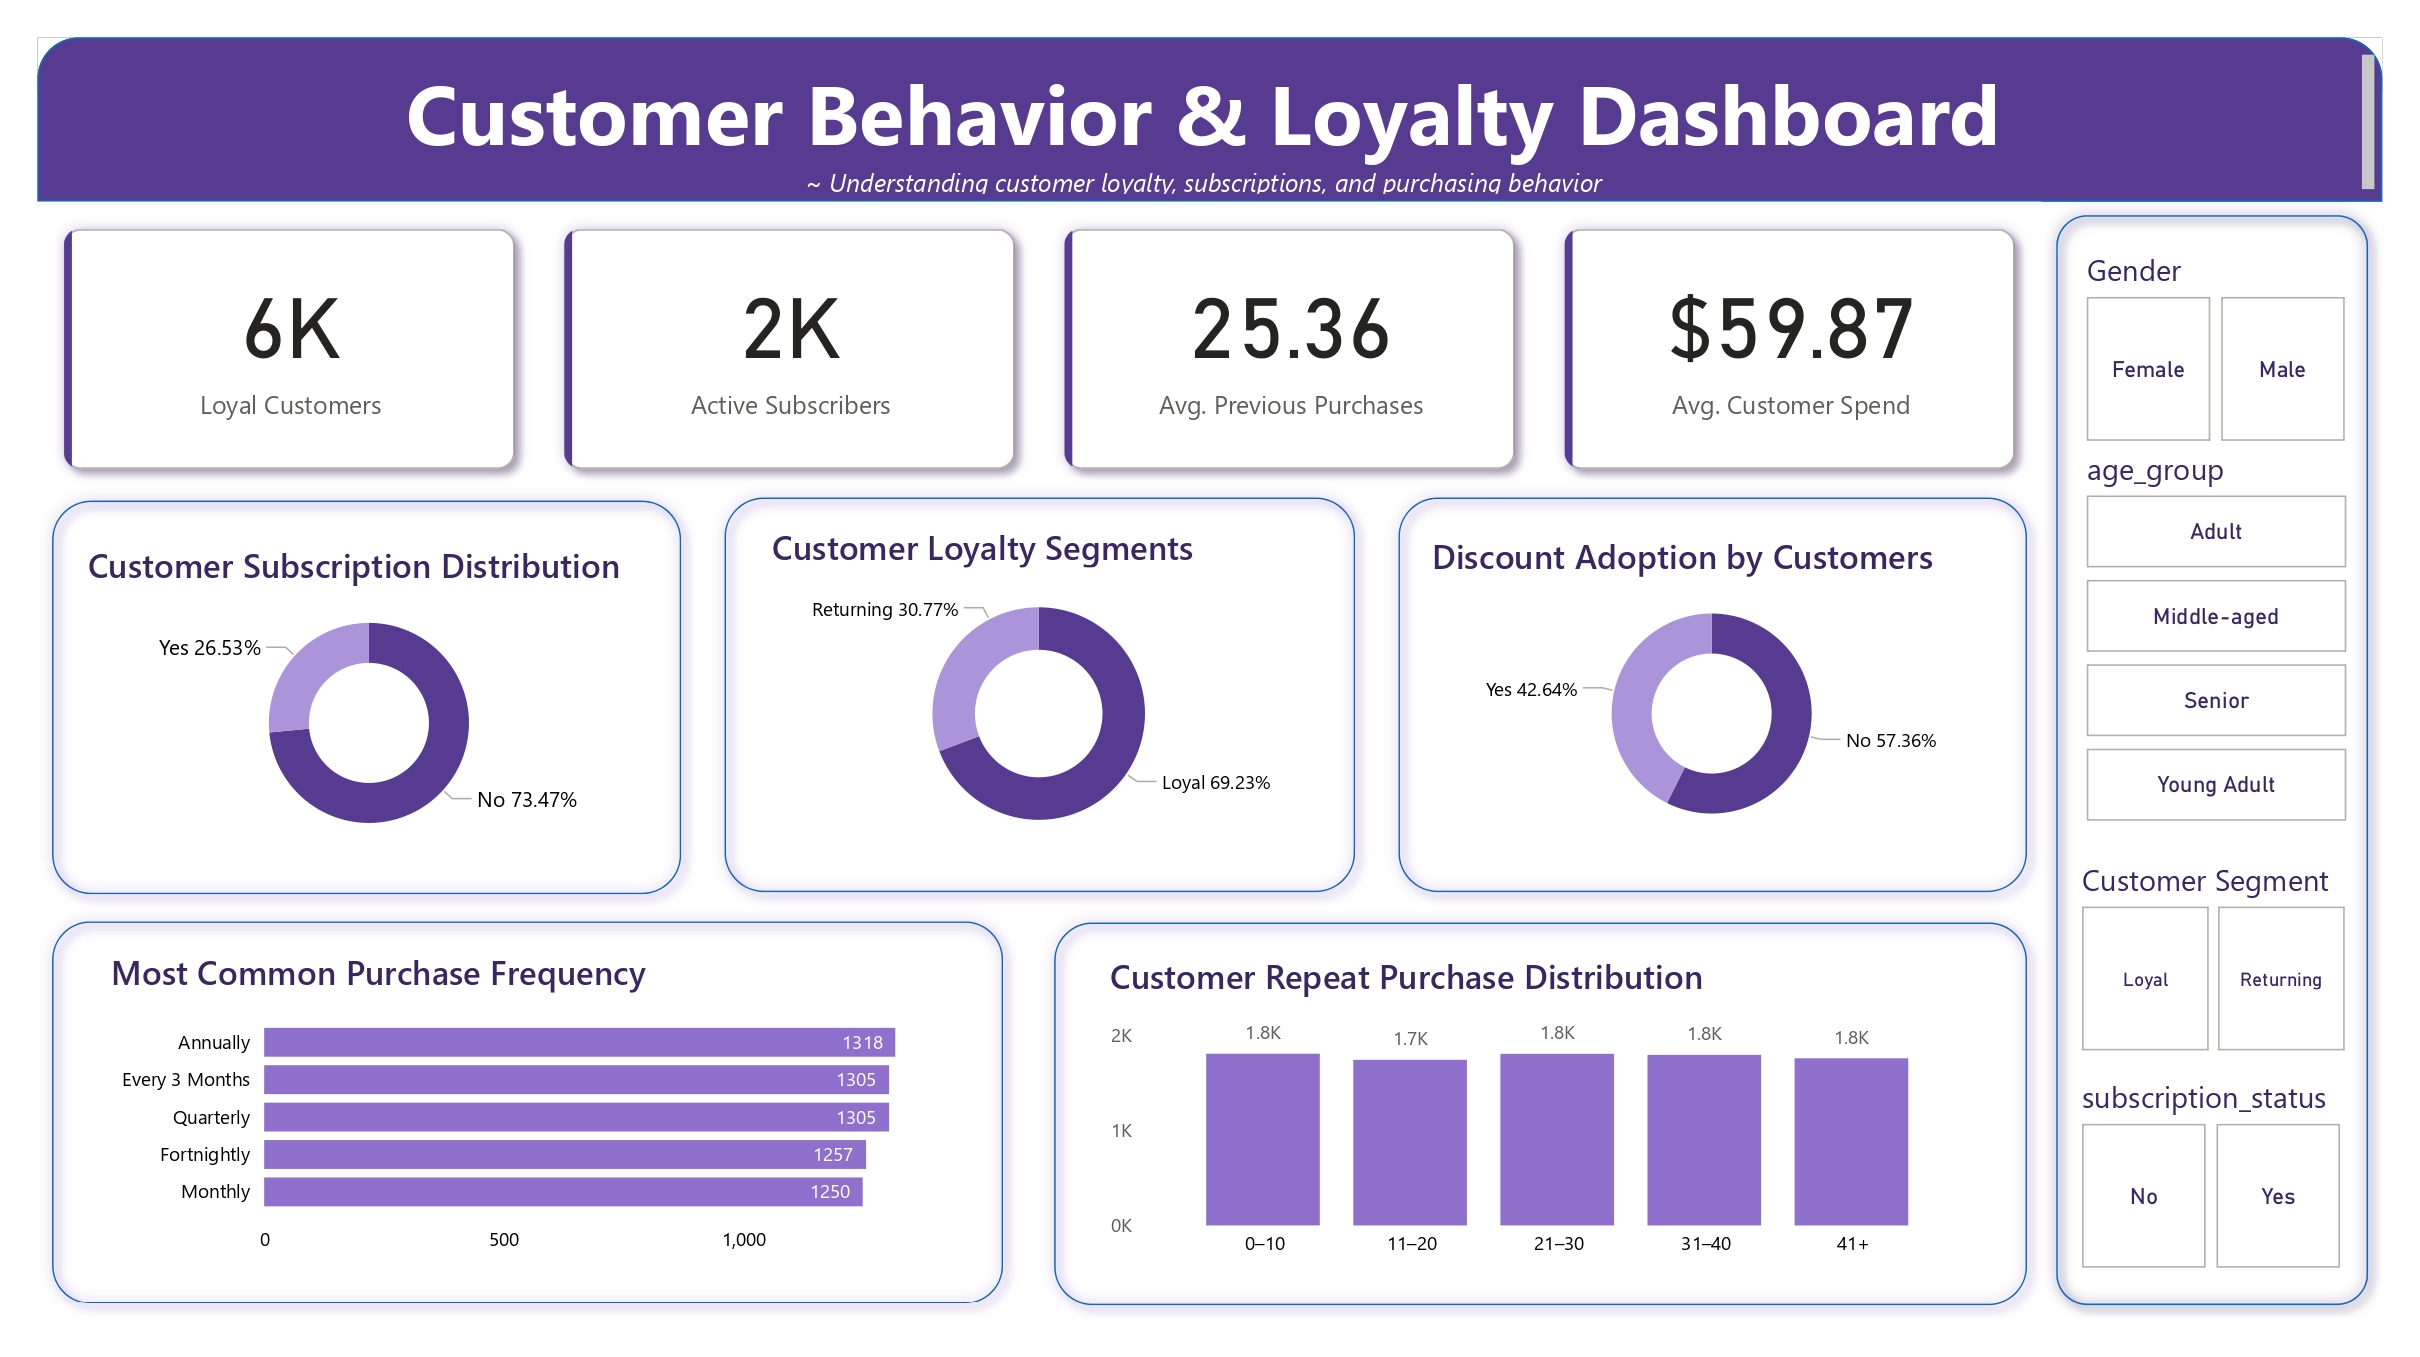

What the dashboard file says about the page in this screenshot:
{"tool":"powerbi","page":{"name":"customer_insight","canvas":[1500,820],"ordinal":1},"visuals":[{"type":"shape","box":[0,0,1500,104.6],"z":0},{"type":"textbox","box":[0,0,1500,104.3],"z":1000},{"type":"cardVisual","fields":{"Data":["customer.Loyal Customers","customer.Subscribers","customer.Avg Previous Purchases","customer.Average Purchase Amount"]},"box":[0,104.6,1281.9,188.2],"z":2000},{"type":"shape","box":[430.3,285.4,421.3,270.4],"z":3000},{"type":"shape","box":[860.6,285.4,421.3,270.4],"z":4000},{"type":"shape","box":[0,286.9,421,270],"z":5000},{"type":"donutChart","title":"Customer Subscription Distribution","fields":{"Category":["customer.subscription_status"],"Y":["Sum(customer.purchase_amount)"]},"box":[26.9,322.7,370.5,203.2],"z":6000},{"type":"shape","box":[0,555.8,627.5,262.9],"z":7000},{"type":"shape","box":[640.9,557.3,640.9,262.9],"z":8000},{"type":"clusteredBarChart","title":"Most Common Purchase Frequency","fields":{"Category":["customer.frequency_of_purchases"],"Y":["CountNonNull(customer.customer_id)"]},"box":[41.8,582.7,560.3,204.7],"z":9000},{"type":"donutChart","title":"Discount Adoption by Customers","fields":{"Category":["customer.discount_applied"],"Y":["CountNonNull(customer.customer_id)"]},"box":[887.5,316.7,367.5,203.2],"z":10000},{"type":"shape","box":[1281.9,104.4,218.1,715.6],"z":11000},{"type":"advancedSlicerVisual","fields":{"Values":["customer.gender"]},"box":[1305.8,136,176.3,127],"z":12000},{"type":"advancedSlicerVisual","fields":{"Values":["customer.age_group"]},"box":[1305.8,262.9,176.3,245],"z":13000},{"type":"advancedSlicerVisual","fields":{"Values":["customer.subscription_status"]},"box":[1302.8,664.8,176.3,127],"z":14000},{"type":"donutChart","title":"Customer Loyalty Segments","fields":{"Category":["customer.Customer Segment"],"Y":["Sum(customer.customer_id)"]},"box":[464.6,310.8,351.1,215.1],"z":15000},{"type":"advancedSlicerVisual","fields":{"Values":["customer.Customer Segment"]},"box":[1302.8,525.9,179.3,127],"z":16000},{"type":"columnChart","title":"Customer Repeat Purchase Distribution","fields":{"Category":["customer.Purchase Range"],"Y":["CountNonNull(customer.customer_id)"]},"box":[681.3,585.7,560.3,204.7],"z":17000}]}

Visuals, with their boxes on the page's 1500x820 design canvas (x1, y1, x2, y2). These are canvas units, not pixel positions in the 2420x1357 screenshot, which may show the page scaled, cropped or inside an application window:
shape: [0,0,1500,105]
textbox: [0,0,1500,104]
cardVisual - customer.Loyal Customers x customer.Subscribers: [0,105,1282,293]
shape: [430,285,852,556]
shape: [861,285,1282,556]
shape: [0,287,421,557]
"Customer Subscription Distribution" donutChart: [27,323,397,526]
shape: [0,556,628,819]
shape: [641,557,1282,820]
"Most Common Purchase Frequency" clusteredBarChart: [42,583,602,787]
"Discount Adoption by Customers" donutChart: [888,317,1255,520]
shape: [1282,104,1500,820]
advancedSlicerVisual - customer.gender: [1306,136,1482,263]
advancedSlicerVisual - customer.age_group: [1306,263,1482,508]
advancedSlicerVisual - customer.subscription_status: [1303,665,1479,792]
"Customer Loyalty Segments" donutChart: [465,311,816,526]
advancedSlicerVisual - customer.Customer Segment: [1303,526,1482,653]
"Customer Repeat Purchase Distribution" columnChart: [681,586,1242,790]
